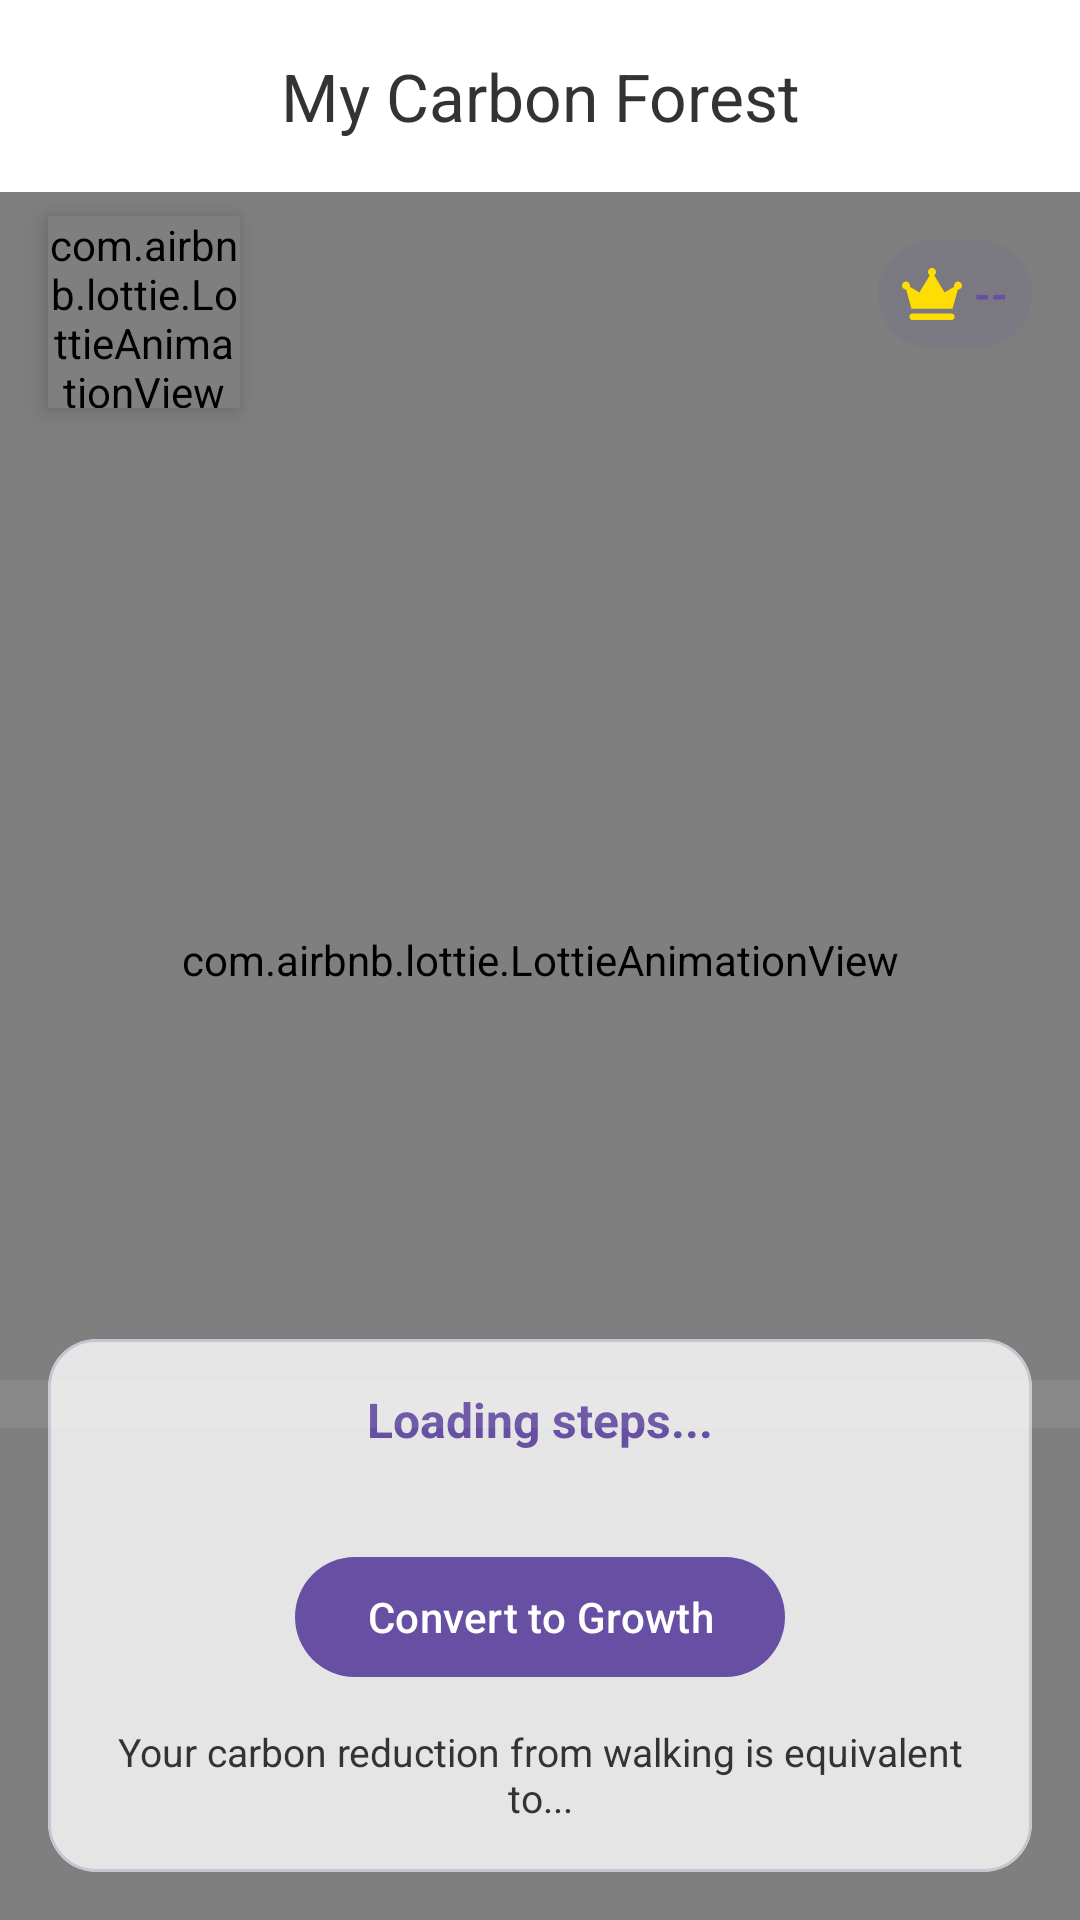

Where icons sit on this 1080px×1920px app screen, as (x1, y1, x2, y2):
winner: (902, 268, 962, 320)
